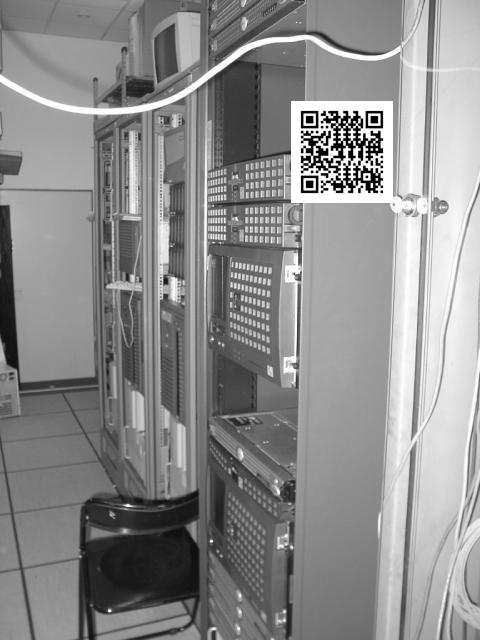qr_code: (292, 102, 393, 202)
